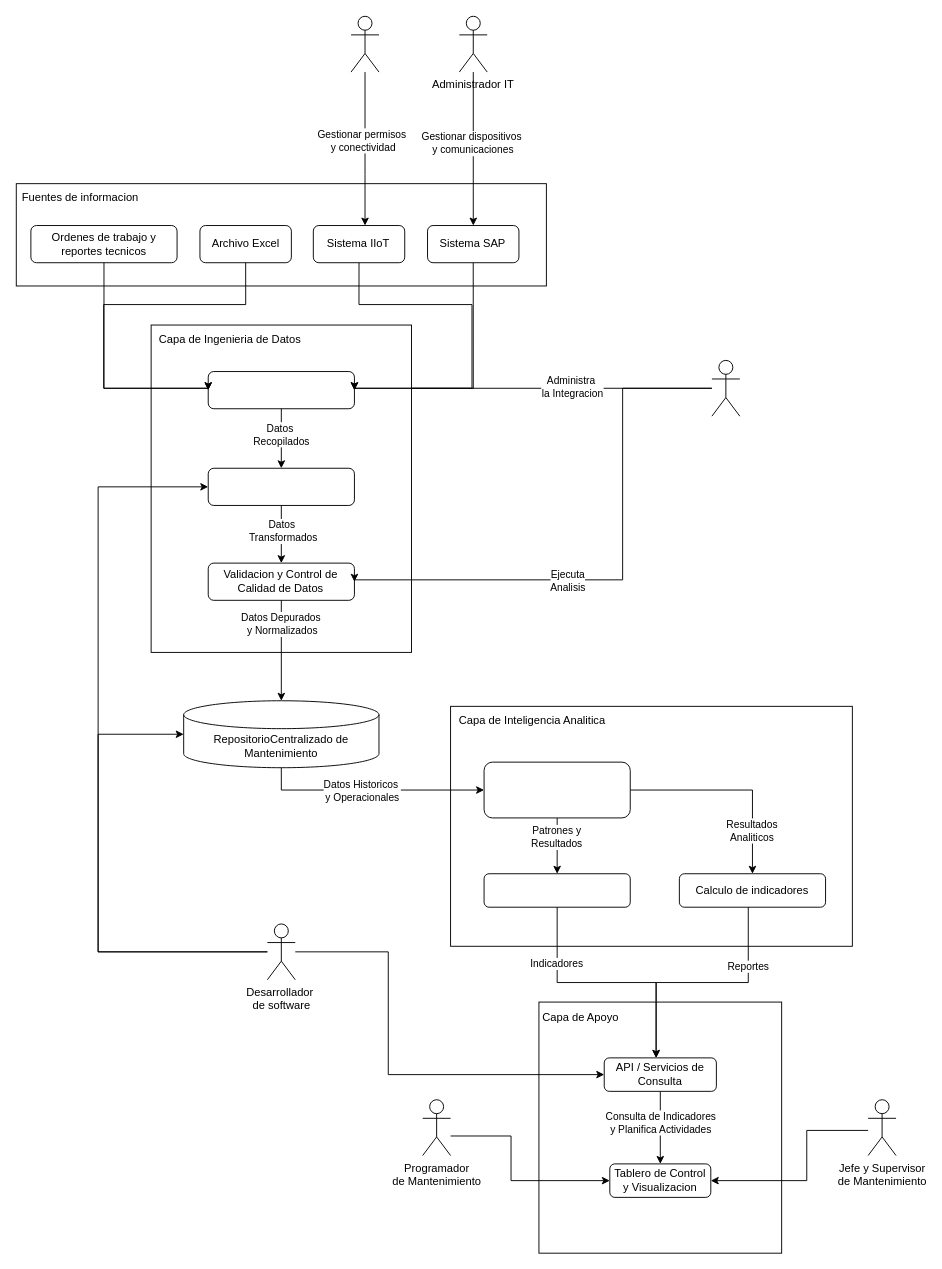
Some shapes in this 942 by 1269 pixel diagram are drawn without their labels. The shapes that lost their labels are listed below. From the top down, each one's centre as x and y in pixels, then its label:
the point at 364,43: Administrador OT
the point at 280,390: Modulo de Extraccion e Importacion
the point at 725,387: Analista de Datos
the point at 280,486: Proceso ETL
the point at 556,789: Motor de Inteligencia Analitica Enfocado en Mantenimiento
the point at 556,890: Generacion de Reportes
